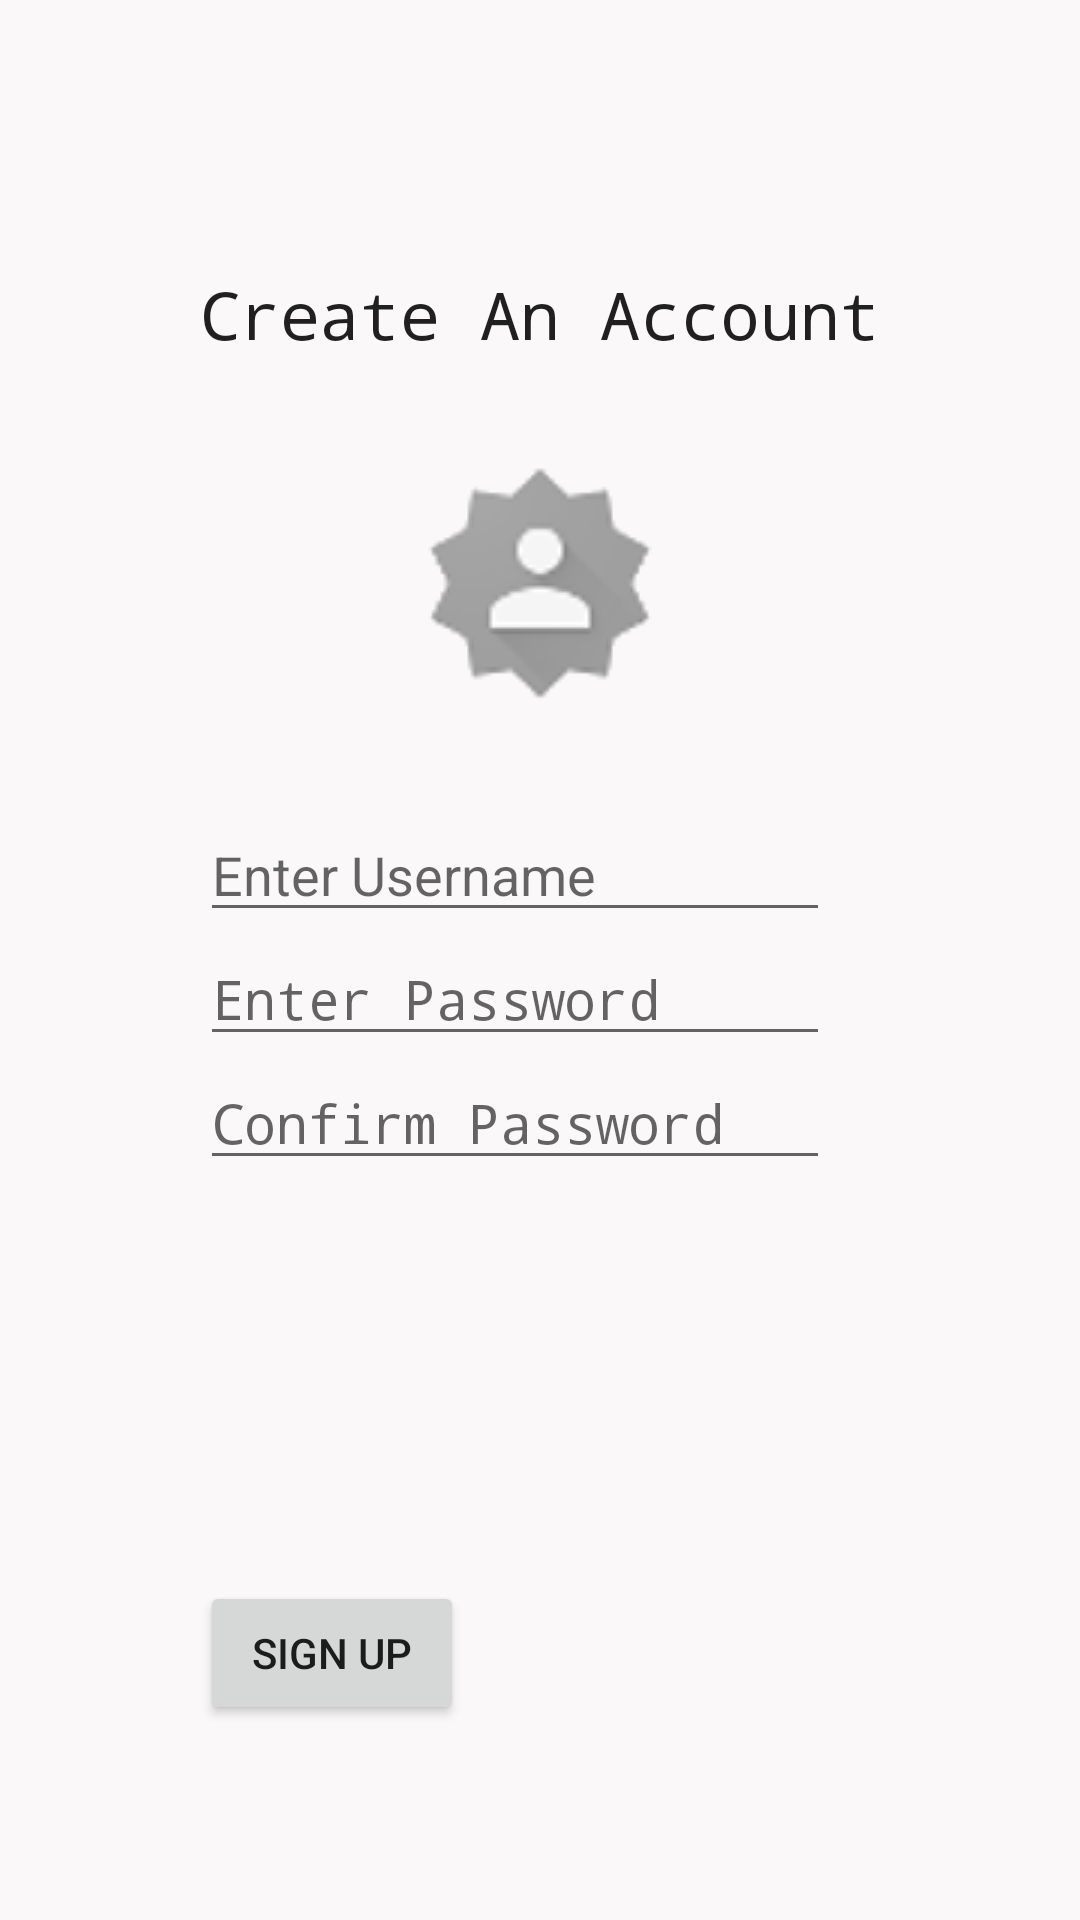

Where to tap for icons on this 1080px x 1920px app screen, as (x=x, y=y):
createaccicon: (x=540, y=583)
